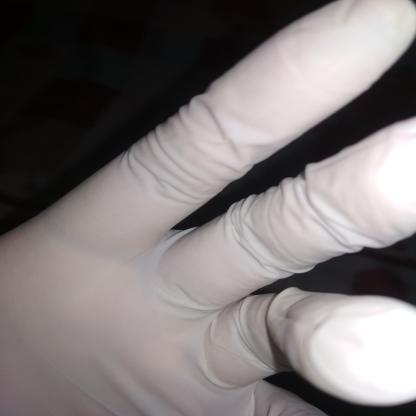gloved_hand: (2, 0, 413, 413)
